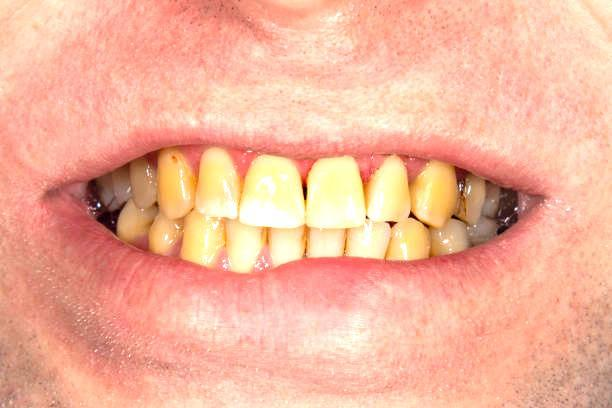Calculus: (295, 145, 373, 228), (238, 151, 307, 234), (357, 149, 417, 233), (189, 147, 246, 222), (409, 159, 461, 230), (179, 206, 235, 263), (110, 200, 164, 257), (150, 153, 198, 217), (387, 214, 433, 271), (147, 207, 181, 253)
